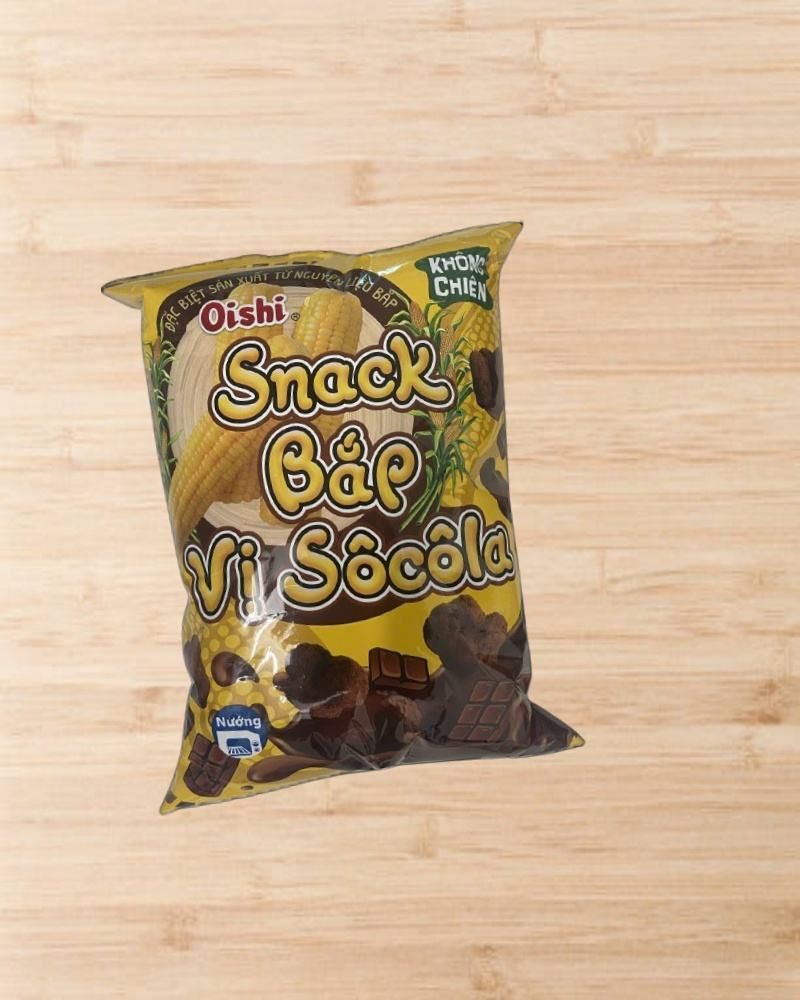Snack socola: (102, 223, 588, 804)
